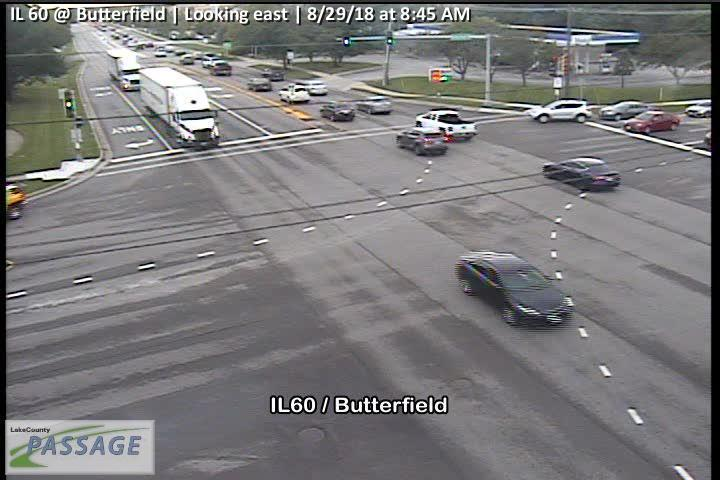SUV: (396, 128, 450, 156), (279, 83, 310, 103)
Sedan: (455, 251, 576, 328), (542, 155, 621, 192), (529, 99, 592, 124), (623, 110, 683, 134), (599, 99, 649, 121), (356, 94, 393, 115), (320, 101, 356, 122), (685, 100, 712, 116), (306, 79, 331, 94), (210, 61, 232, 77), (261, 68, 285, 81), (247, 80, 272, 91)
Truck: (139, 66, 223, 148), (415, 111, 479, 142), (105, 46, 145, 92)
